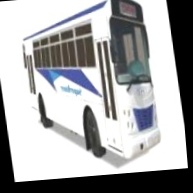bus: (10, 0, 167, 177)
